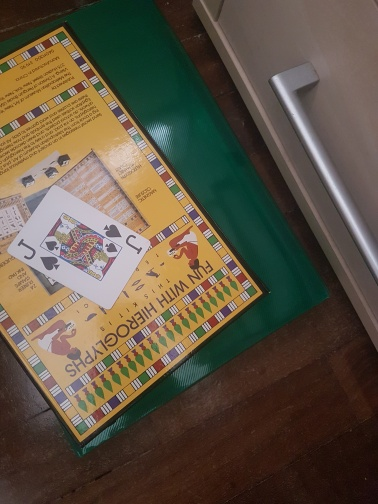jack: (7, 184, 149, 311)
